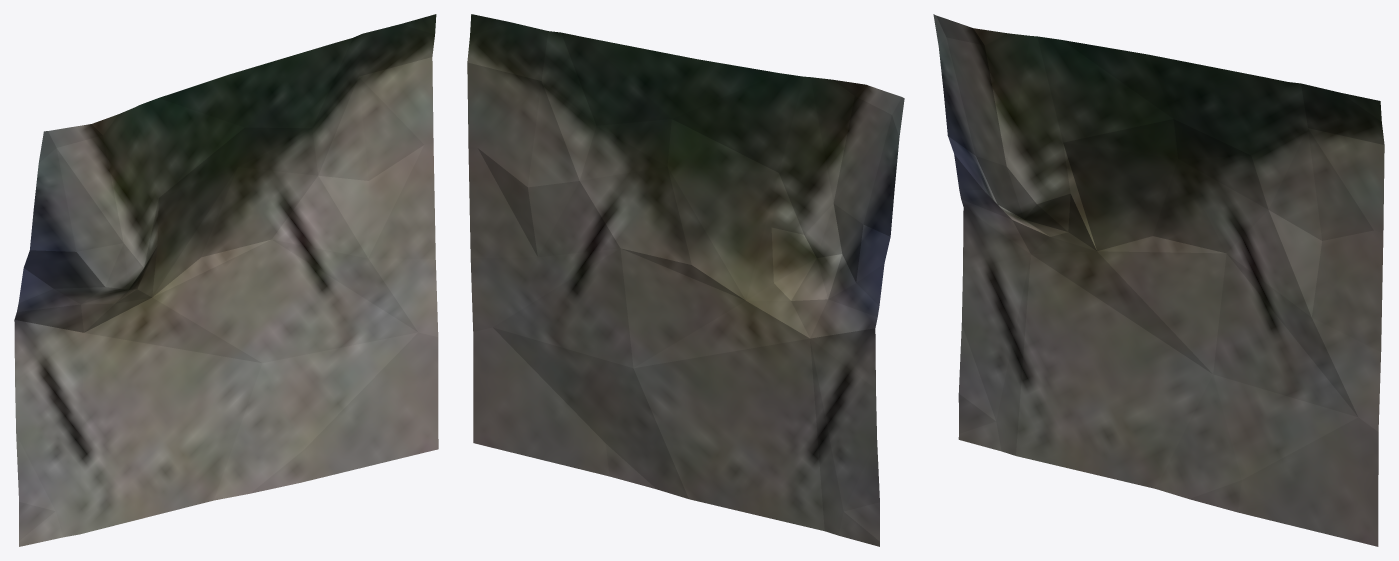
File: Tile_+002_+006_L24_0003331.obj
3 renders of one model, left to right at view 1: azimuth 30°, elevation 25°; view 2: azimuth 150°, elevation 25°; view 3: azimuth 330°, elevation 25°, orthographic. The views are drawn at different scales.
Size of the model in its own units: 0.9531 by 0.9531 by 0.1349.
Materials: 1 (1 with a texture image).
